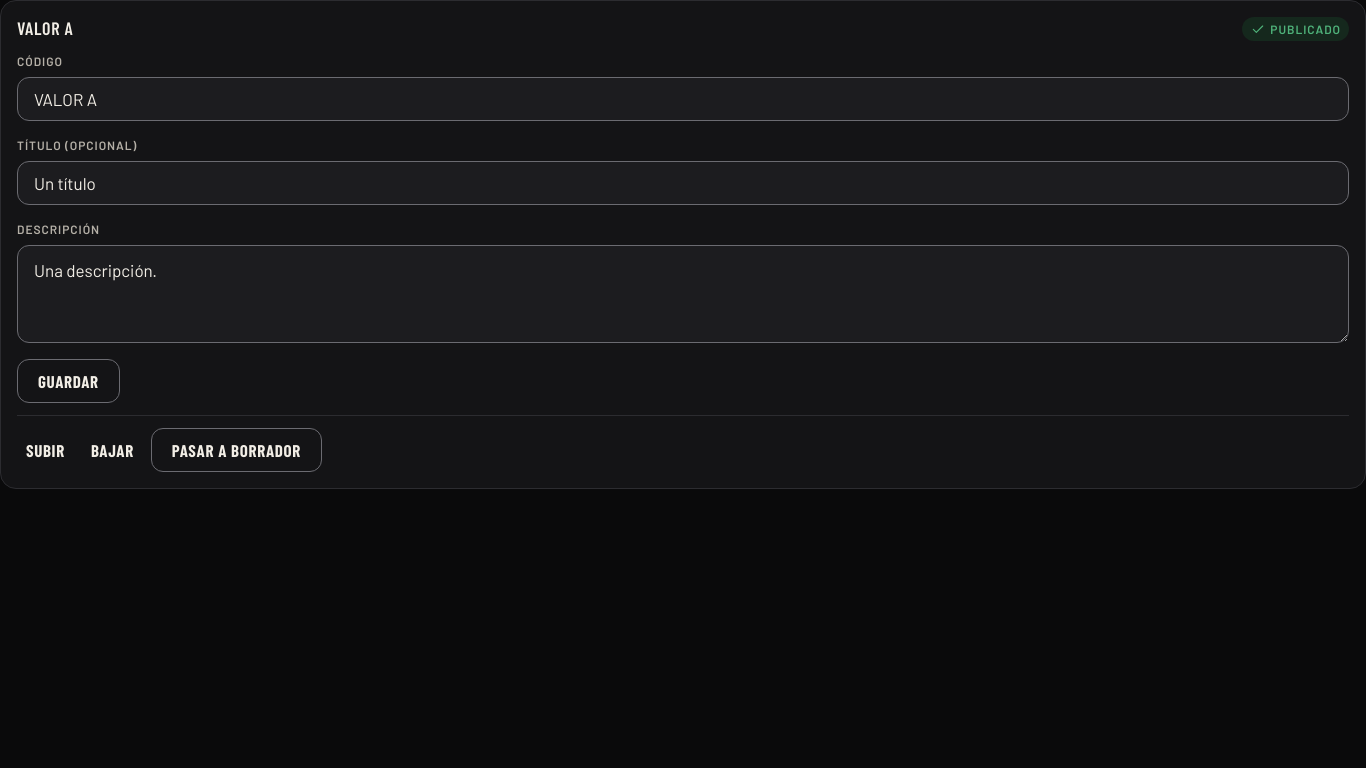
Scenario: ValueEditor · un valor que existe › vaciar el título lo manda vacío: la acción lo guarda como «sin título»
Step 1. Clear the field labelled "Título (opcional)" → (683, 183), box [17, 161, 1349, 205]
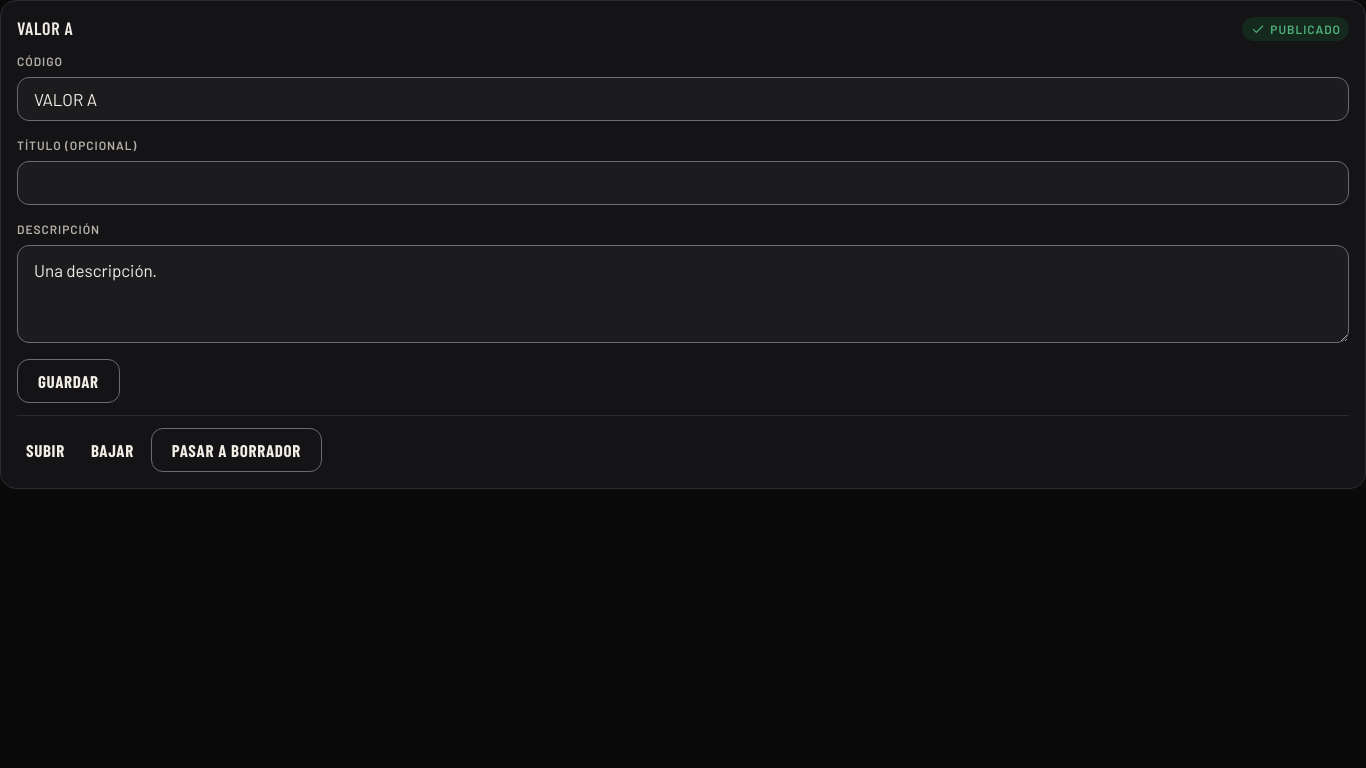
Step 2. Click the button "Guardar" → (68, 381), box [17, 359, 120, 403]
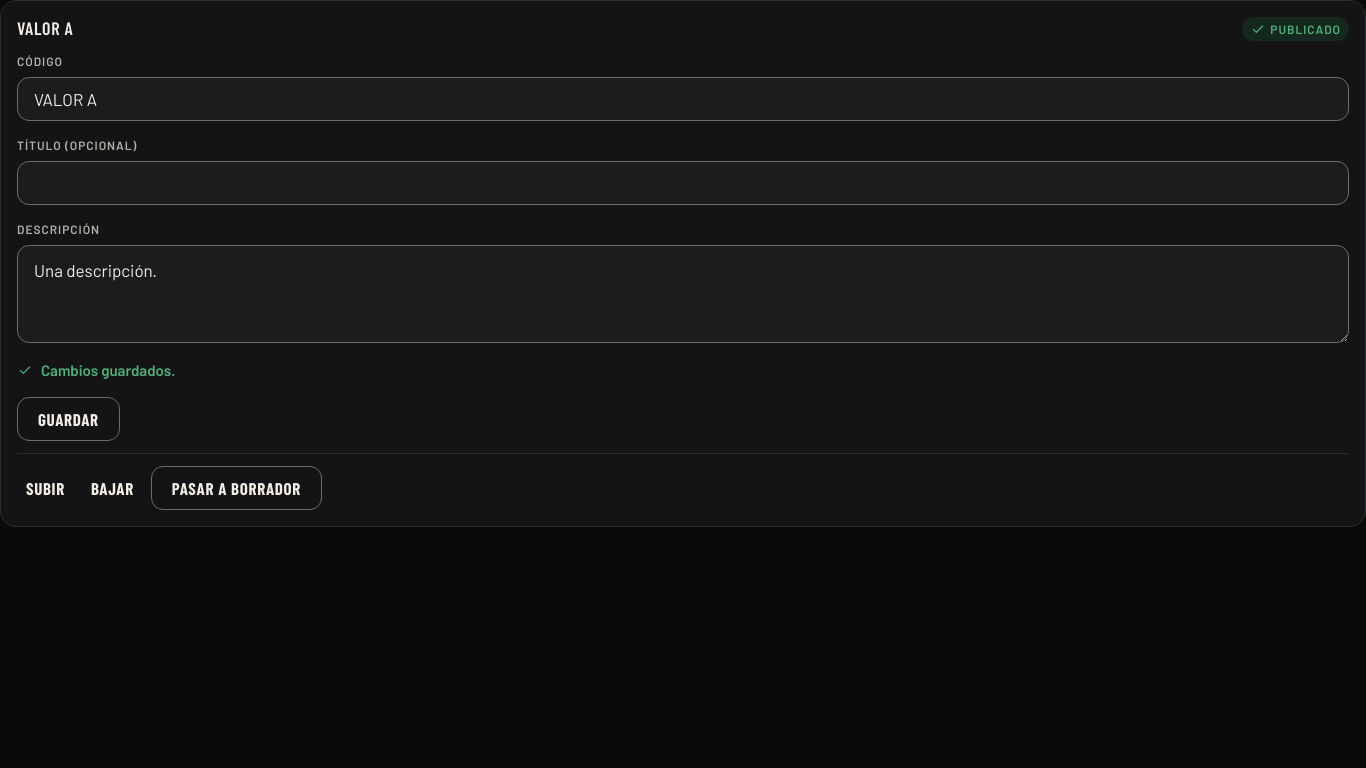
Now the text "Cambios guardados." is shown, box [17, 361, 175, 379]
